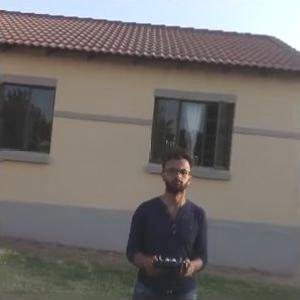follow: (121, 144, 211, 299)
